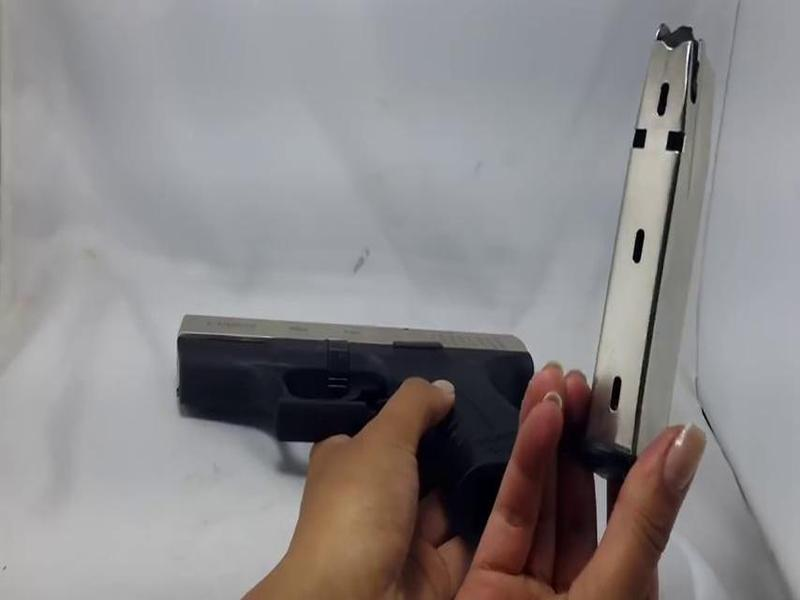Pistola: (169, 294, 544, 534)
